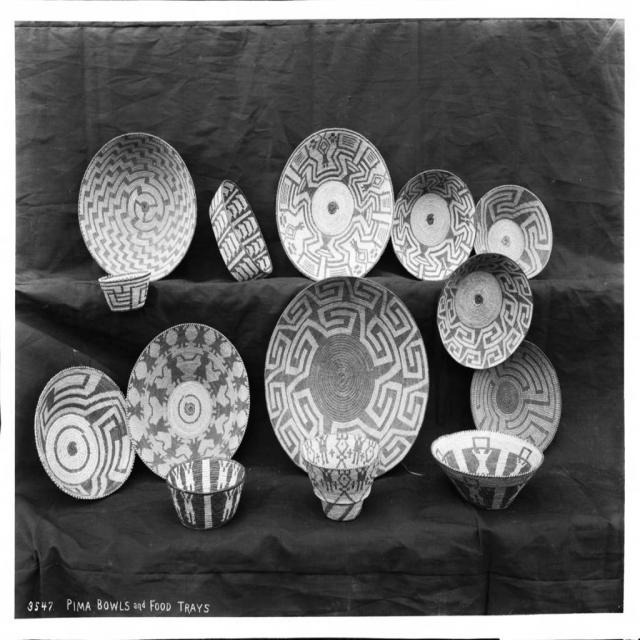non-organic waste: (243, 277, 433, 506), (267, 111, 415, 254), (70, 123, 192, 283)
